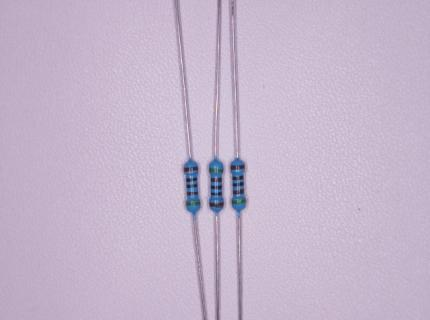Black band: (186, 177, 197, 183), (233, 181, 244, 187), (186, 184, 198, 189), (210, 185, 222, 190), (232, 175, 244, 180), (211, 192, 222, 196)
Brown band: (184, 166, 198, 172), (209, 202, 224, 207), (230, 165, 245, 170), (232, 189, 244, 195), (210, 178, 222, 182), (187, 192, 198, 196)
Green band: (231, 199, 247, 205), (185, 201, 201, 206), (209, 168, 224, 173)
